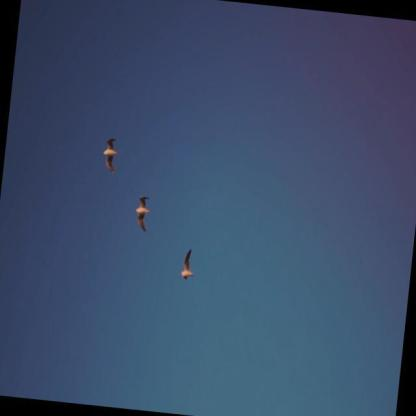bird: (131, 192, 153, 235), (100, 134, 120, 175), (178, 246, 196, 282)
